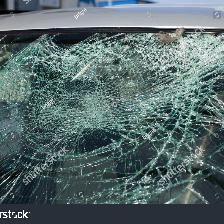broken_part: (17, 40, 144, 121)
